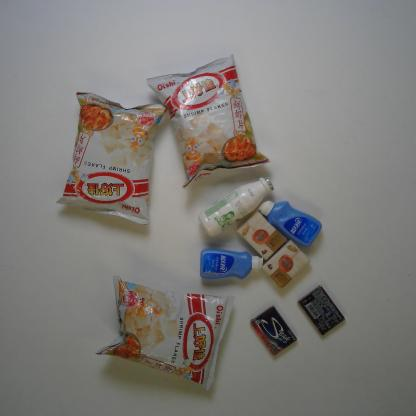Gum: (249, 303, 300, 360), (295, 286, 350, 338)
Milk: (197, 174, 274, 242)
Personal Hygiene: (258, 196, 325, 249), (194, 247, 266, 283)
Puffed Food: (141, 54, 274, 190), (94, 271, 242, 392), (52, 85, 173, 226)
Tissue: (234, 209, 291, 262), (258, 238, 314, 289)
